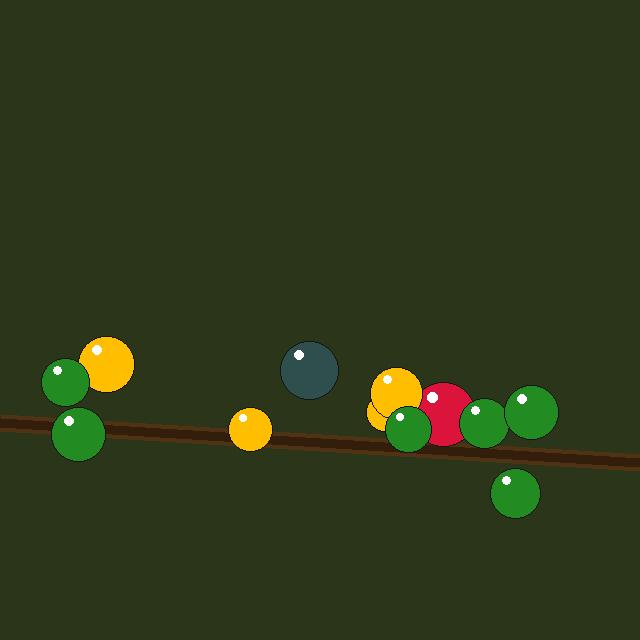Dry_Damaged: (280, 341, 338, 399)
Ripe: (411, 382, 475, 446)
Ripening: (78, 336, 134, 392), (370, 367, 422, 419), (228, 407, 272, 451), (366, 393, 404, 431)
Unripe: (51, 407, 105, 461), (504, 385, 558, 439), (459, 398, 509, 448), (490, 468, 540, 518), (41, 358, 89, 406), (385, 406, 431, 452)
